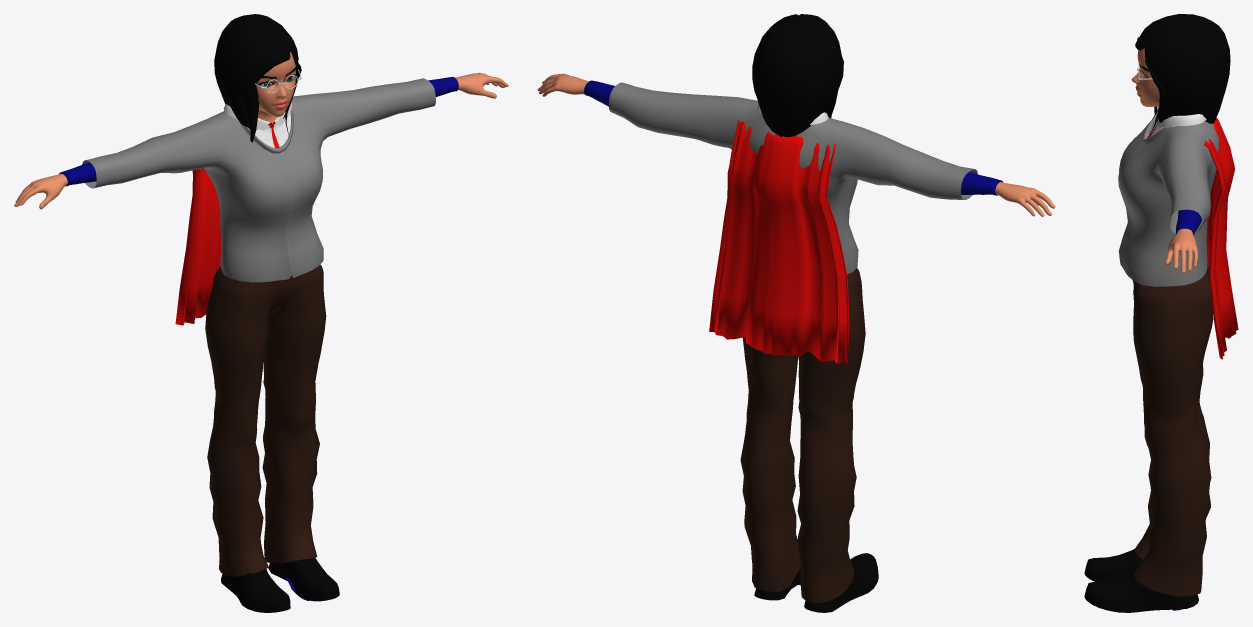
3 renders of one model, left to right at view 1: azimuth 30°, elevation 25°; view 2: azimuth 150°, elevation 25°; view 3: azimuth 270°, elevation 25°, orthographic. The views are drawn at different scales.
Visible parts, largest first — view 1: Harry PAnt, Shirt_Sweter, Hair, Supergirl_Suit, Harry_Shoes, Body; view 2: Supergirl_Suit, Harry PAnt, Shirt_Sweter, Hair, Harry_Shoes, Body; view 3: Harry PAnt, Shirt_Sweter, Hair, Supergirl_Suit, Harry_Shoes, Body.
Boxes of the visible parts, bbox=[...] form: Harry PAnt: bbox=[205, 264, 326, 576]; Shirt_Sweter: bbox=[82, 78, 435, 282]; Hair: bbox=[214, 14, 301, 142]; Supergirl_Suit: bbox=[59, 77, 458, 325]; Harry_Shoes: bbox=[221, 558, 339, 612]; Body: bbox=[14, 52, 508, 209]; Supergirl_Suit: bbox=[584, 80, 1002, 364]; Harry PAnt: bbox=[740, 268, 865, 603]; Shirt_Sweter: bbox=[608, 82, 977, 273]; Hair: bbox=[752, 14, 843, 137]; Harry_Shoes: bbox=[754, 553, 878, 612]; Body: bbox=[537, 73, 1055, 216]; Harry PAnt: bbox=[1132, 265, 1213, 596]; Shirt_Sweter: bbox=[1118, 106, 1218, 286]; Hair: bbox=[1135, 14, 1230, 135]; Supergirl_Suit: bbox=[1176, 118, 1238, 359]; Harry_Shoes: bbox=[1084, 549, 1198, 612]; Body: bbox=[1131, 48, 1197, 273].
Size of the model in its own units: 125 by 137 by 33.2.
